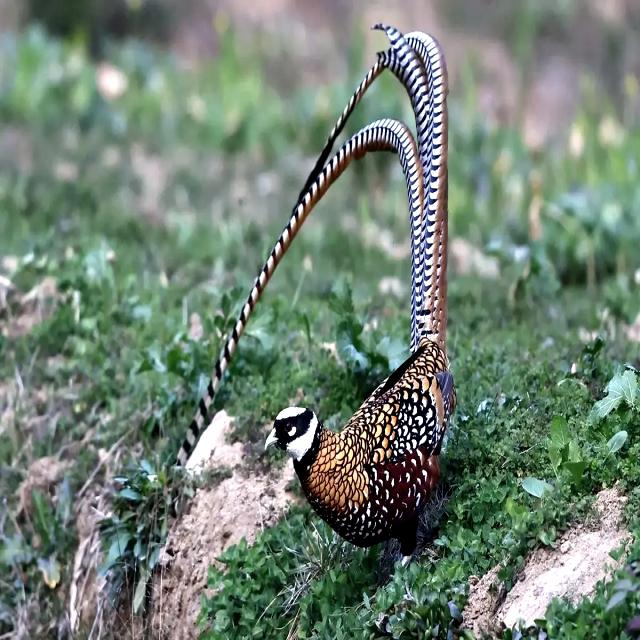Reeves-s Pheasant: (175, 23, 449, 465)
